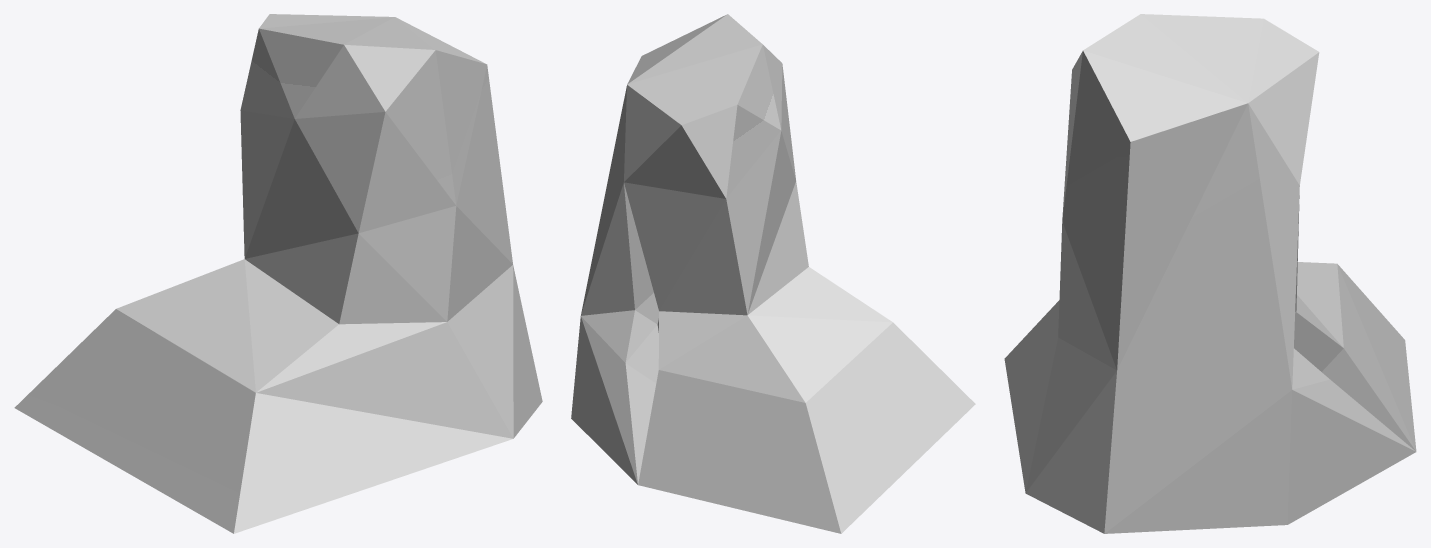
File: EA01_Env_Rock_01b.glb
3 renders of one model, left to right at view 1: azimuth 30°, elevation 25°; view 2: azimuth 150°, elevation 25°; view 3: azimuth 270°, elevation 25°, orthographic. The views are drawn at different scales.
Visible parts, largest first — view 1: EA01_Env_Rock_01b; view 2: EA01_Env_Rock_01b; view 3: EA01_Env_Rock_01b.
Boxes of the visible parts, <box> form: EA01_Env_Rock_01b: <box>14,14,542,533</box>; EA01_Env_Rock_01b: <box>571,14,975,533</box>; EA01_Env_Rock_01b: <box>1004,14,1416,533</box>.
Size of the model in its own units: 5.31 by 5.22 by 4.47.
1 material, 1 textured.
